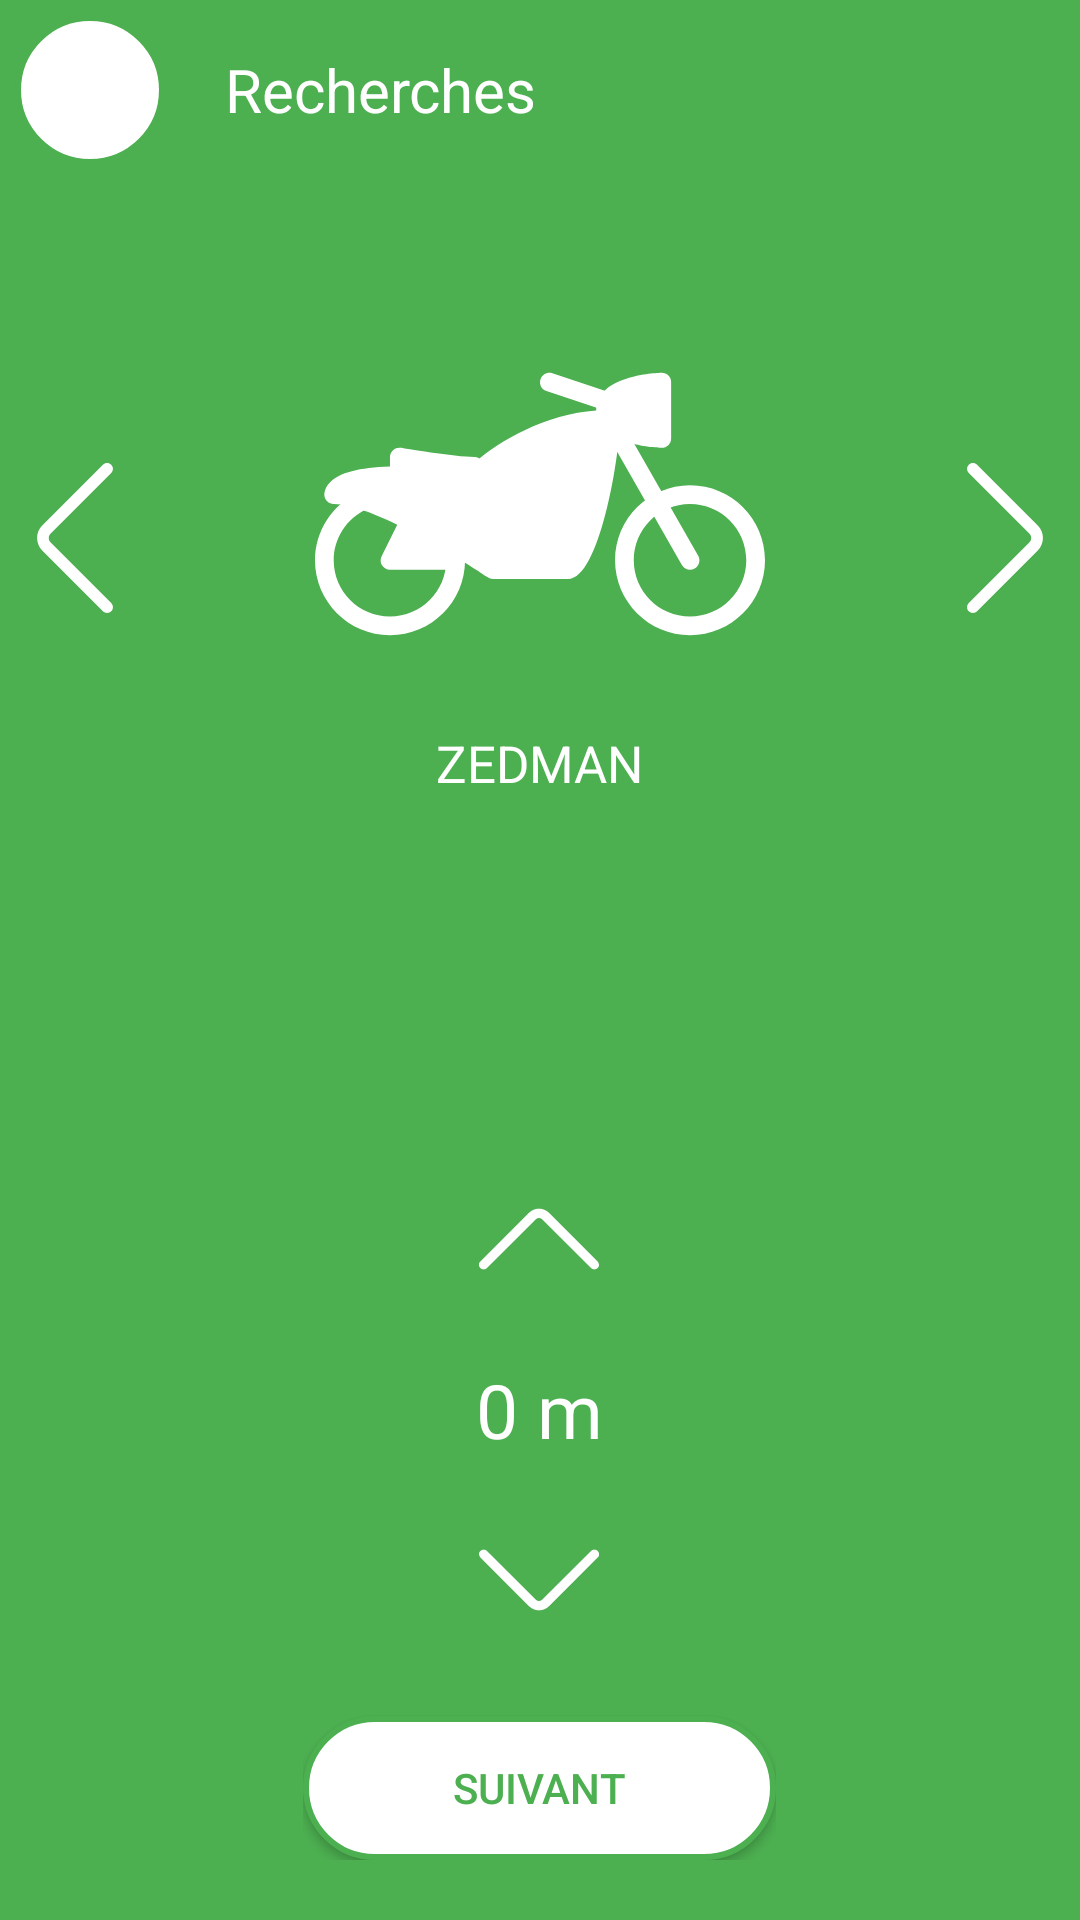

Icons on this 1080x1920 Android screen, each with the point to tap as [x,y]:
chevron prev: [75,538]
